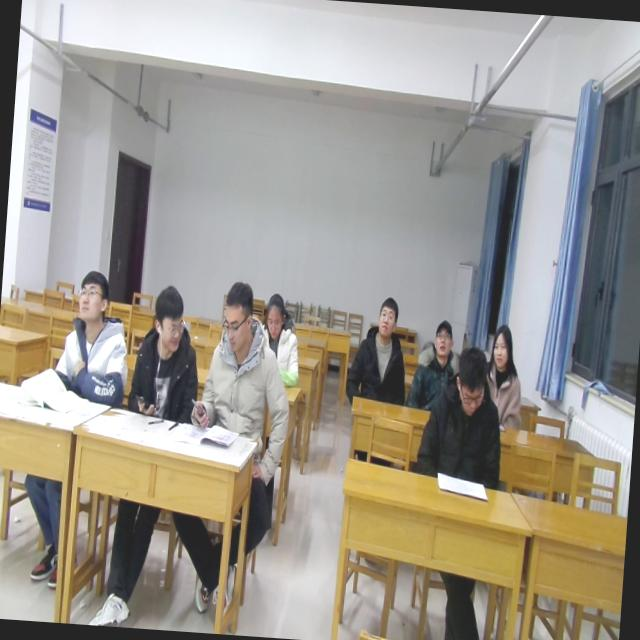down: (216, 274, 256, 358), (448, 338, 491, 416), (260, 282, 290, 344)
lookup: (73, 262, 114, 326), (486, 319, 518, 371), (426, 315, 457, 365), (373, 288, 401, 342)
sit: (189, 277, 299, 442), (414, 345, 509, 489), (50, 268, 135, 408), (124, 284, 204, 426), (342, 292, 412, 406), (404, 317, 466, 411), (481, 324, 528, 429), (258, 290, 305, 388)
